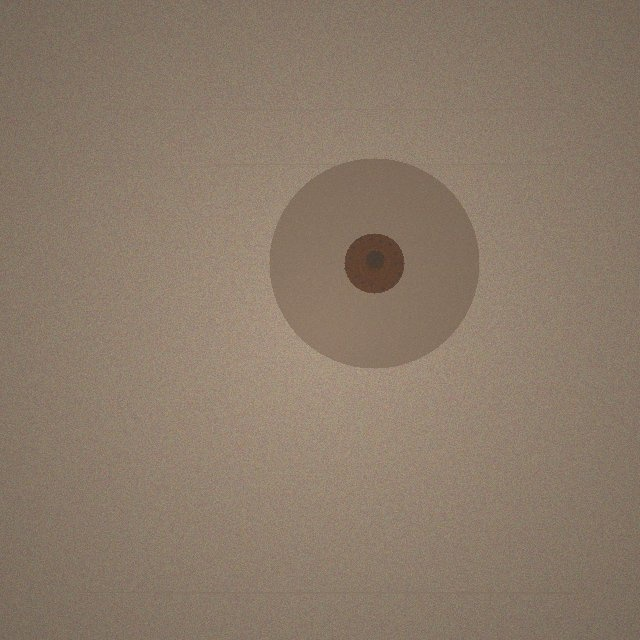cold_weld: (269, 158, 479, 368)
